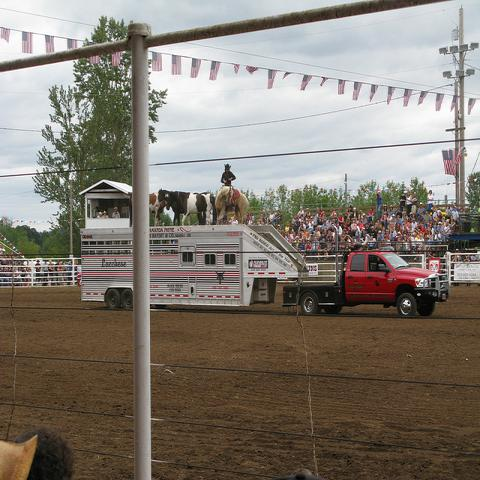truck: (283, 252, 450, 316)
